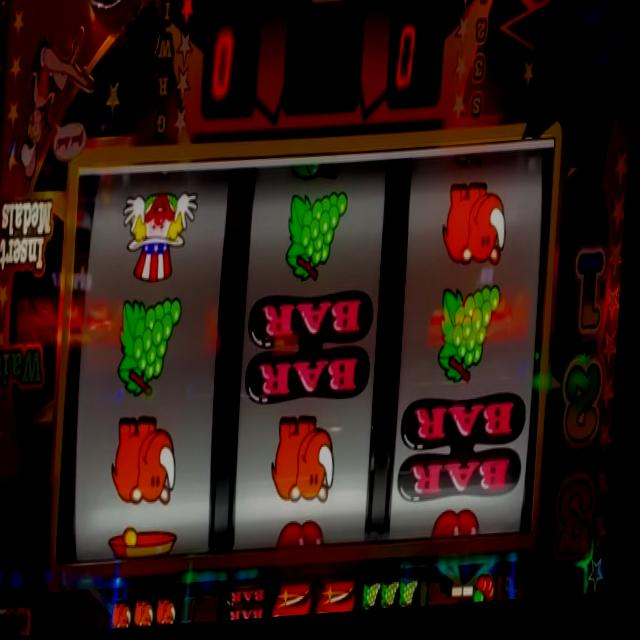bar: (246, 294, 378, 409), (402, 404, 529, 509), (229, 585, 275, 625)
bell: (113, 526, 183, 564)
cherry: (281, 521, 332, 553), (437, 515, 489, 546)
clown: (119, 185, 202, 290)
display: (60, 138, 555, 573)
elephant: (112, 414, 184, 508), (274, 418, 344, 512), (442, 185, 509, 276), (115, 600, 140, 632), (162, 599, 184, 629), (141, 601, 160, 629)
grape: (117, 296, 186, 401), (286, 186, 351, 287), (441, 291, 505, 388), (480, 575, 504, 610), (405, 579, 427, 613), (387, 580, 407, 615), (368, 582, 389, 615)
z: (325, 580, 363, 619), (281, 584, 318, 620)
